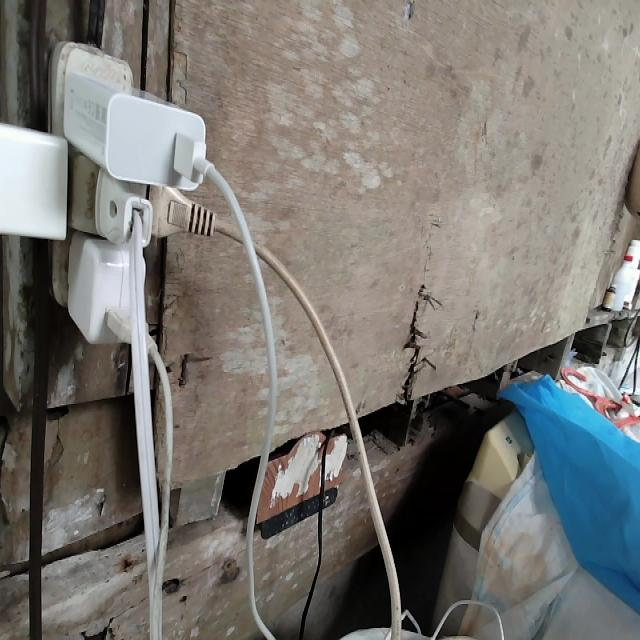-: (0, 39, 219, 356)
